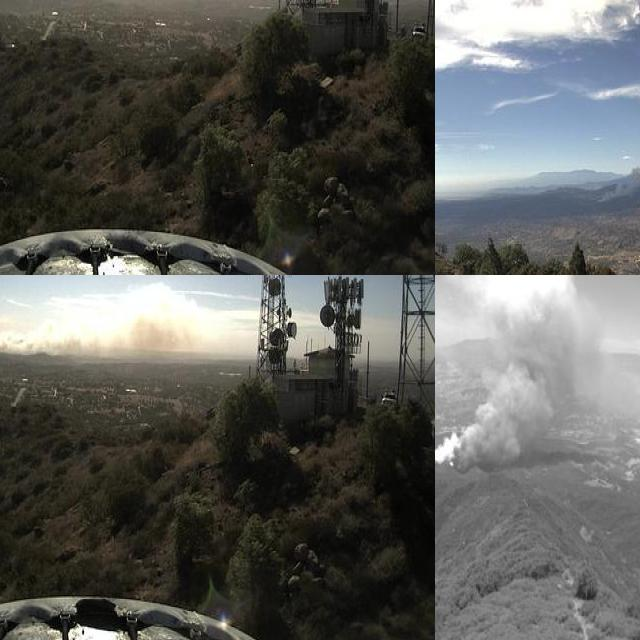smoke: (435, 275, 603, 468), (0, 293, 199, 364), (594, 141, 640, 205)
